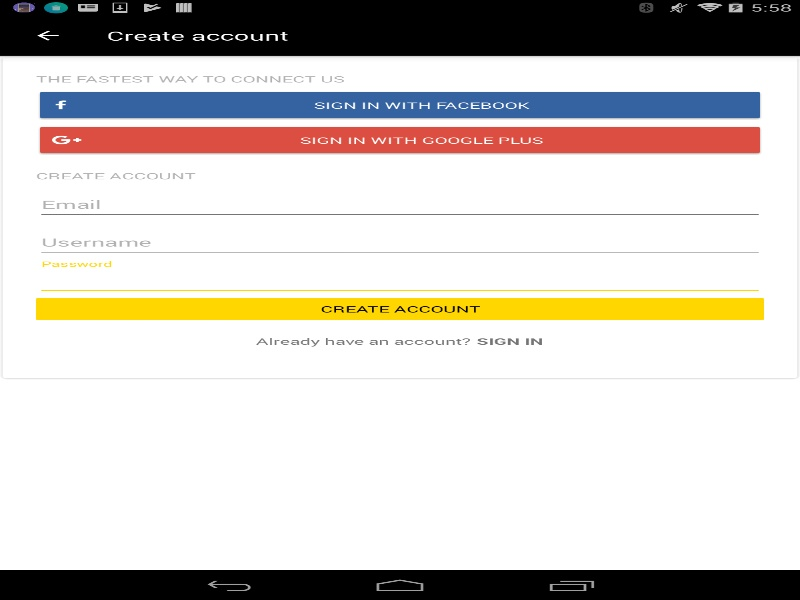Button: (36, 90, 764, 120), (36, 125, 764, 155), (36, 297, 764, 320), (10, 15, 85, 55)
Input: (36, 266, 764, 295), (36, 191, 764, 219), (36, 229, 764, 257)
